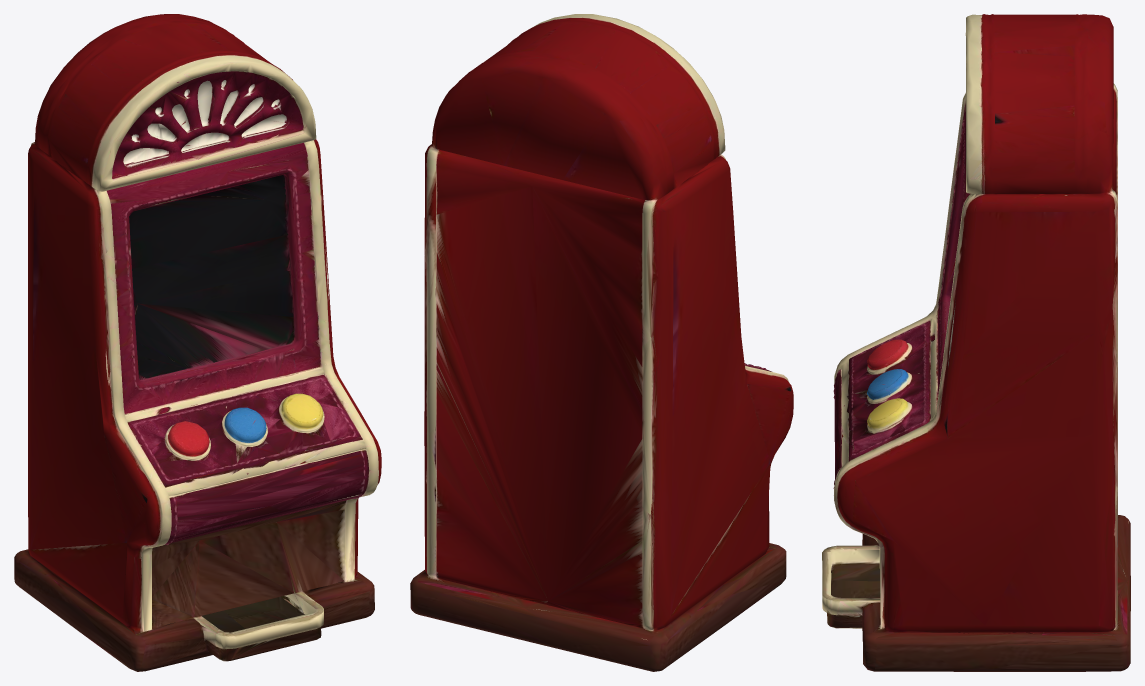
Rendered from slot.glb.
The picture shows the model from 3 angles, left to right: view 1: azimuth 30°, elevation 25°; view 2: azimuth 150°, elevation 25°; view 3: azimuth 270°, elevation 25°; orthographic projection. The views are drawn at different scales.
Visible parts, largest first — view 1: Mesh_0; view 2: Mesh_0; view 3: Mesh_0.
Boxes of the visible parts, left/top/right/bottom form: Mesh_0: left=14, top=14, right=381, bottom=671; Mesh_0: left=410, top=14, right=793, bottom=671; Mesh_0: left=822, top=14, right=1130, bottom=671.
Size of the model in its own units: 1.12 by 2.4 by 1.15.
Materials: 1 (1 with a texture image).
